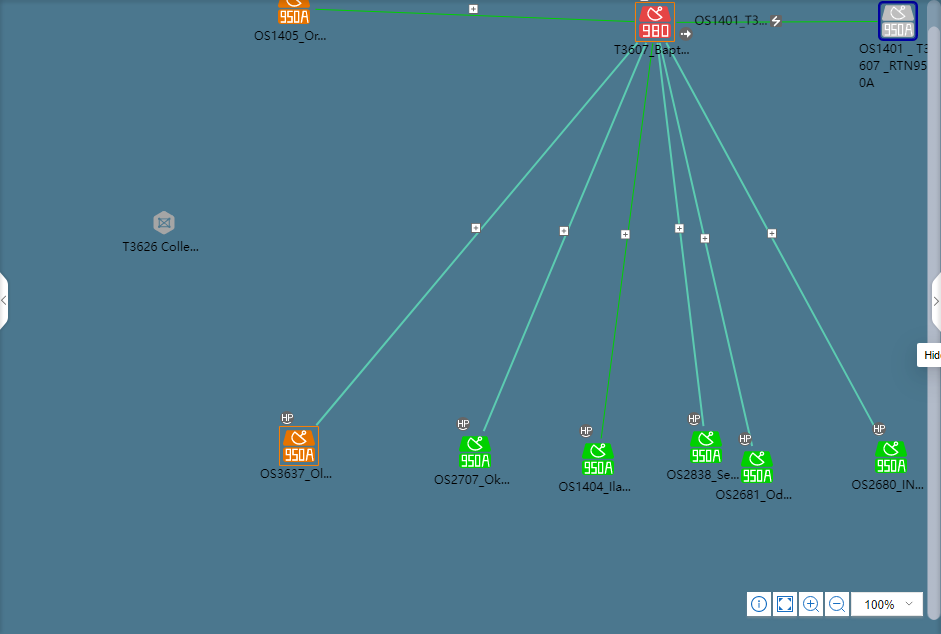Link_Blue: (316, 43, 639, 426), (664, 43, 883, 438), (480, 43, 649, 433), (659, 43, 754, 447), (655, 43, 705, 427)
Link_Green: (598, 48, 654, 439), (312, 7, 634, 23), (677, 19, 878, 25)
RTN_Gray: (878, 0, 917, 39)
RTN_Green: (875, 442, 906, 474), (740, 452, 771, 483), (690, 432, 721, 463), (582, 444, 613, 475), (459, 437, 490, 468)
RTN_Orange: (281, 429, 316, 464), (278, 0, 309, 23)
RTN_Red: (636, 3, 674, 39)
